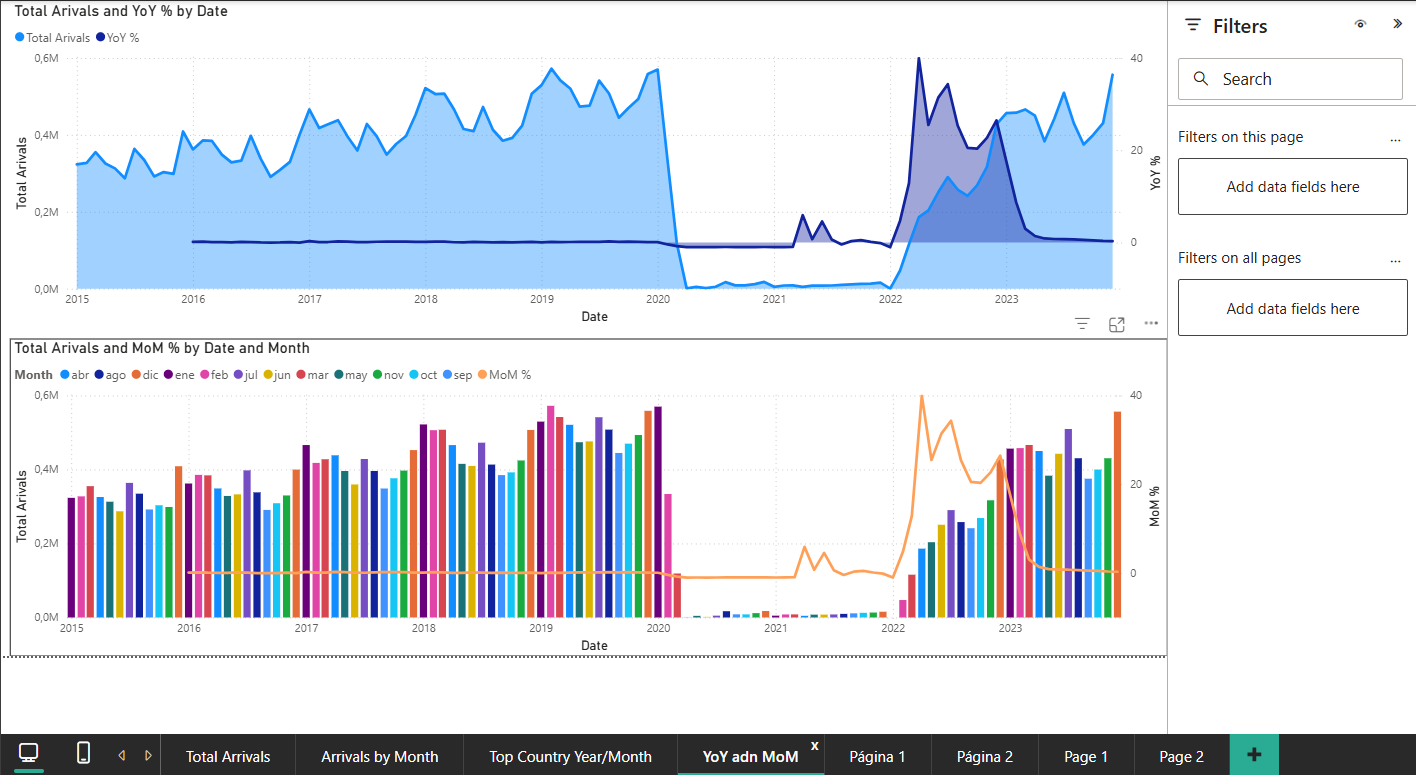

What the dashboard file says about the page in this screenshot:
{"tool":"powerbi","page":{"name":"YoY adn MoM","canvas":[1280,720],"ordinal":3},"visuals":[{"type":"areaChart","fields":{"Category":["Dim_Date.Date"],"Y":["Measures (2).Total Arivals"],"Y2":["Measures (2).YoY %"]},"box":[9.6,0,1270.7,359.5],"z":0},{"type":"lineStackedColumnComboChart","fields":{"Y":["Measures (2).Total Arivals"],"Y2":["Measures (2).MoM %"],"Category":["Dim_Date.Date"],"Series":["Dim_Date.Month"]},"box":[10,370,1270,350],"z":1000}]}

Visuals, with their boxes on the page's 1280x720 design canvas (x1, y1, x2, y2). These are canvas units, not pixel positions in the 1416x775 screenshot, which may show the page scaled, cropped or inside an application window:
areaChart - Dim_Date.Date x Measures (2).Total Arivals: bbox=(10, 0, 1280, 360)
lineStackedColumnComboChart - Measures (2).Total Arivals x Measures (2).MoM %: bbox=(10, 370, 1280, 720)
